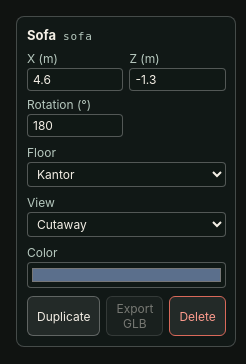
Test: ObjectPanel › deletes ordinary objects but not desks or beds
Click the button "Delete": (198, 316) left=169, top=296, right=226, bottom=336
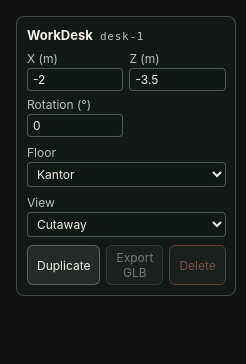
Result: the button "Delete" is disabled at left=169, top=245, right=226, bottom=285
